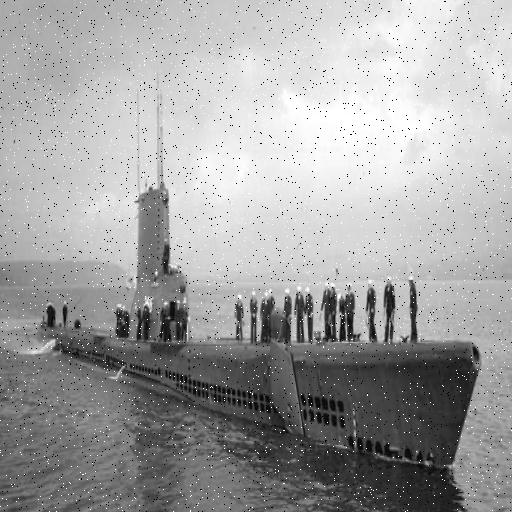submarine: (40, 181, 483, 472)
